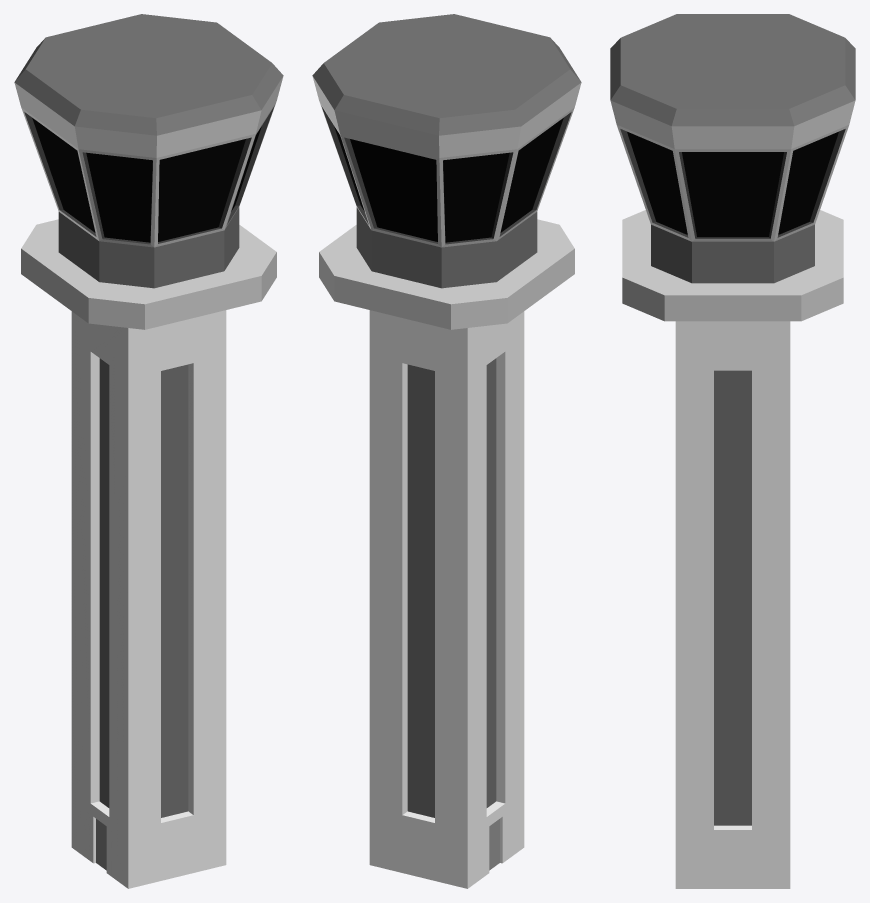
The model's file is ATC.fbx.
The picture shows the model from 3 angles, left to right: view 1: azimuth 30°, elevation 25°; view 2: azimuth 150°, elevation 25°; view 3: azimuth 270°, elevation 25°; orthographic projection.
Parts seen in each view (by area): view 1: ATC; view 2: ATC; view 3: ATC.
Part boxes in pixels (x1,y1,x2,y2): ATC: (14, 14, 283, 888); ATC: (312, 14, 581, 888); ATC: (610, 14, 855, 888).
Bounding box in the file's own units: 1707 × 6172 × 1707.
Materials: 1 (1 with a texture image).
